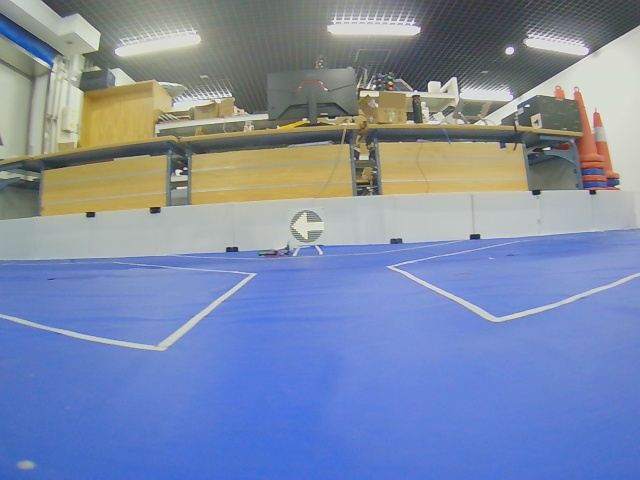left_yellow: (290, 210, 324, 243)
